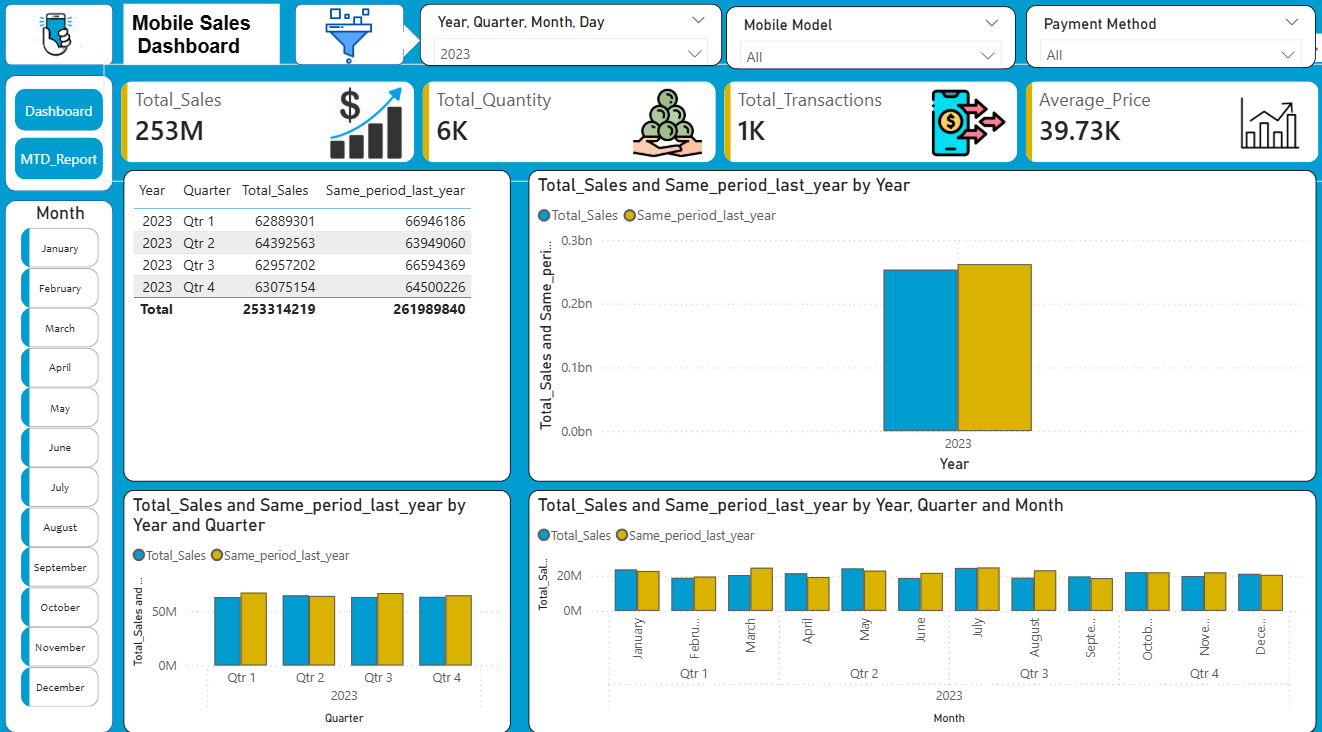

This screenshot's page, from the dashboard's own definition file:
{"tool":"powerbi","page":{"name":"Same_period_last_year","canvas":[1280,720],"ordinal":2},"visuals":[{"type":"shape","box":[8.9,8.9,103.3,58.9],"z":0},{"type":"image","box":[20,11.1,73.3,56.7],"z":1000},{"type":"shape","title":"Mobile Sales Dashboard","box":[121.4,8.6,148.6,58.6],"z":2000},{"type":"shape","box":[8.9,76.7,103.3,111.1],"z":3000},{"type":"cardVisual","fields":{"Data":["MObile.Total_Sales","MObile.Total_Quantity","MObile.Total_Transactions","MObile.Average_Price"]},"box":[102.9,65.9,1177.4,111.1],"z":4000},{"type":"slicer","fields":{"Values":["Date.Date.Variation.Date Hierarchy.Year","Date.Date.Variation.Date Hierarchy.Quarter","Date.Date.Variation.Date Hierarchy.Month","Date.Date.Variation.Date Hierarchy.Day"]},"box":[403.4,8.2,288.2,59],"z":5000},{"type":"shape","box":[284.3,8.6,104.3,58.6],"z":6000},{"type":"slicer","fields":{"Values":["MObile.Mobile Model"]},"box":[695.7,11,275.8,60.4],"z":7000},{"type":"image","box":[297.1,11.4,77.1,54.3],"z":8000},{"type":"shape","box":[362.9,27.1,41,32],"z":9000},{"type":"slicer","fields":{"Values":["MObile.Payment Method"]},"box":[981.1,9.6,275.8,60.4],"z":10000},{"type":"textbox","box":[102.9,11.4,167.1,54.3],"z":11000},{"type":"shape","box":[8.9,195.6,103.3,507.8],"z":12000},{"type":"advancedSlicerVisual","fields":{"Values":["Date.Date.Variation.Date Hierarchy.Month"]},"box":[18.9,197.8,84.4,495.6],"z":13000},{"type":"tableEx","fields":{"Values":["Date.Date.Variation.Date Hierarchy.Year","Date.Date.Variation.Date Hierarchy.Quarter","MObile.Total_Sales","MObile.Same_period_last_year"]},"box":[121.4,166.7,369,296.4],"z":14000},{"type":"lineClusteredColumnComboChart","fields":{"Category":["Date.Date.Variation.Date Hierarchy.Year","Date.Date.Variation.Date Hierarchy.Quarter"],"Y":["MObile.Total_Sales","MObile.Same_period_last_year"]},"box":[507.1,166.7,750,296.4],"z":15000},{"type":"lineClusteredColumnComboChart","fields":{"Y":["MObile.Total_Sales","MObile.Same_period_last_year"],"Category":["Date.Date.Variation.Date Hierarchy.Year","Date.Date.Variation.Date Hierarchy.Quarter","Date.Date.Variation.Date Hierarchy.Month","Date.Date.Variation.Date Hierarchy.Day"]},"box":[507.1,471.4,750,232.1],"z":16000},{"type":"lineClusteredColumnComboChart","fields":{"Y":["MObile.Total_Sales","MObile.Same_period_last_year"],"Category":["Date.Date.Variation.Date Hierarchy.Year","Date.Date.Variation.Date Hierarchy.Quarter","Date.Date.Variation.Date Hierarchy.Month","Date.Date.Variation.Date Hierarchy.Day"]},"box":[121.4,471.4,369,232.1],"z":17000},{"type":"pageNavigator","box":[17.9,89.3,84.5,86.9],"z":17001}]}

Visuals, with their boxes in screenshot pixels (x1, y1, x2, y2), scaled from the page's 1280x720 canvas onto the 1322x732 screenshot:
shape: region(9, 9, 116, 69)
image: region(21, 11, 96, 69)
"Mobile Sales Dashboard" shape: region(125, 9, 279, 68)
shape: region(9, 78, 116, 191)
cardVisual - MObile.Total_Sales x MObile.Total_Quantity: region(106, 67, 1321, 180)
slicer - Date.Date.Variation.Date Hierarchy.Year x Date.Date.Variation.Date Hierarchy.Quarter: region(417, 8, 714, 68)
shape: region(294, 9, 401, 68)
slicer - MObile.Mobile Model: region(719, 11, 1003, 73)
image: region(307, 12, 386, 67)
shape: region(375, 28, 417, 60)
slicer - MObile.Payment Method: region(1013, 10, 1298, 71)
textbox: region(106, 12, 279, 67)
shape: region(9, 199, 116, 715)
advancedSlicerVisual - Date.Date.Variation.Date Hierarchy.Month: region(20, 201, 107, 705)
tableEx - Date.Date.Variation.Date Hierarchy.Year x Date.Date.Variation.Date Hierarchy.Quarter: region(125, 169, 506, 471)
lineClusteredColumnComboChart - Date.Date.Variation.Date Hierarchy.Year x Date.Date.Variation.Date Hierarchy.Quarter: region(524, 169, 1298, 471)
lineClusteredColumnComboChart - MObile.Total_Sales x MObile.Same_period_last_year: region(524, 479, 1298, 715)
lineClusteredColumnComboChart - MObile.Total_Sales x MObile.Same_period_last_year: region(125, 479, 506, 715)
pageNavigator: region(18, 91, 106, 179)
